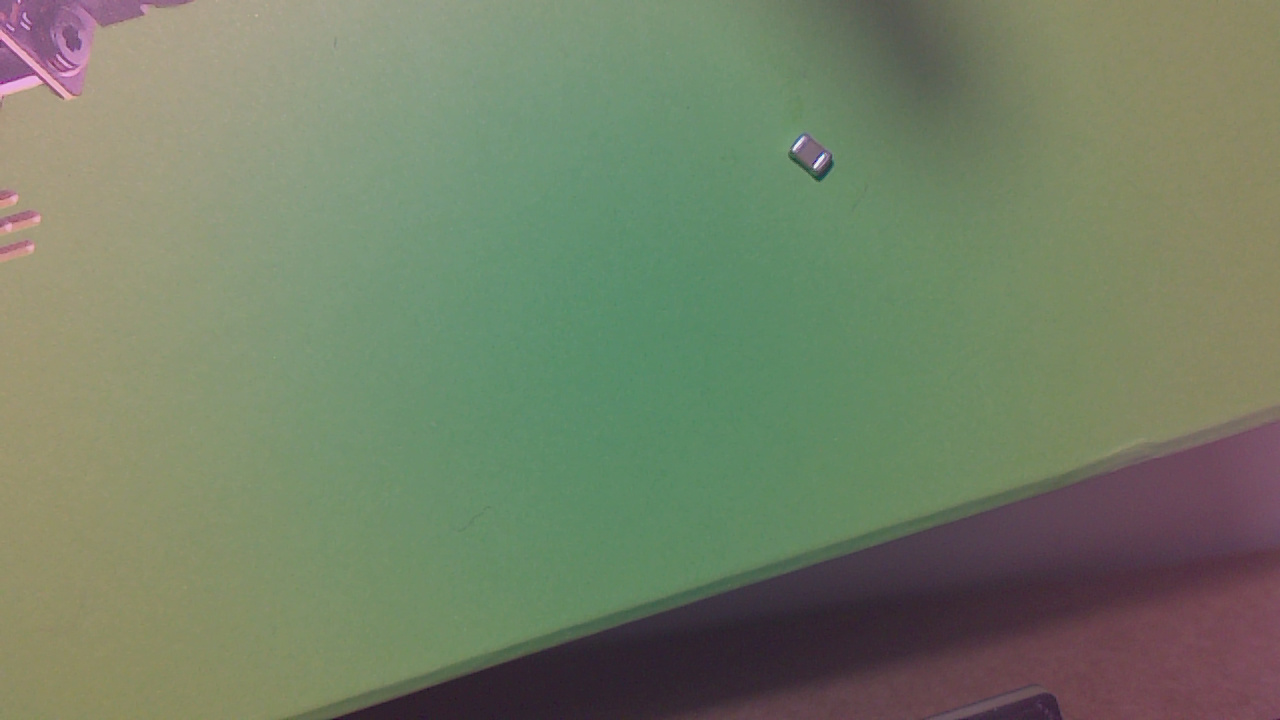Condensator: (791, 135, 840, 186)
